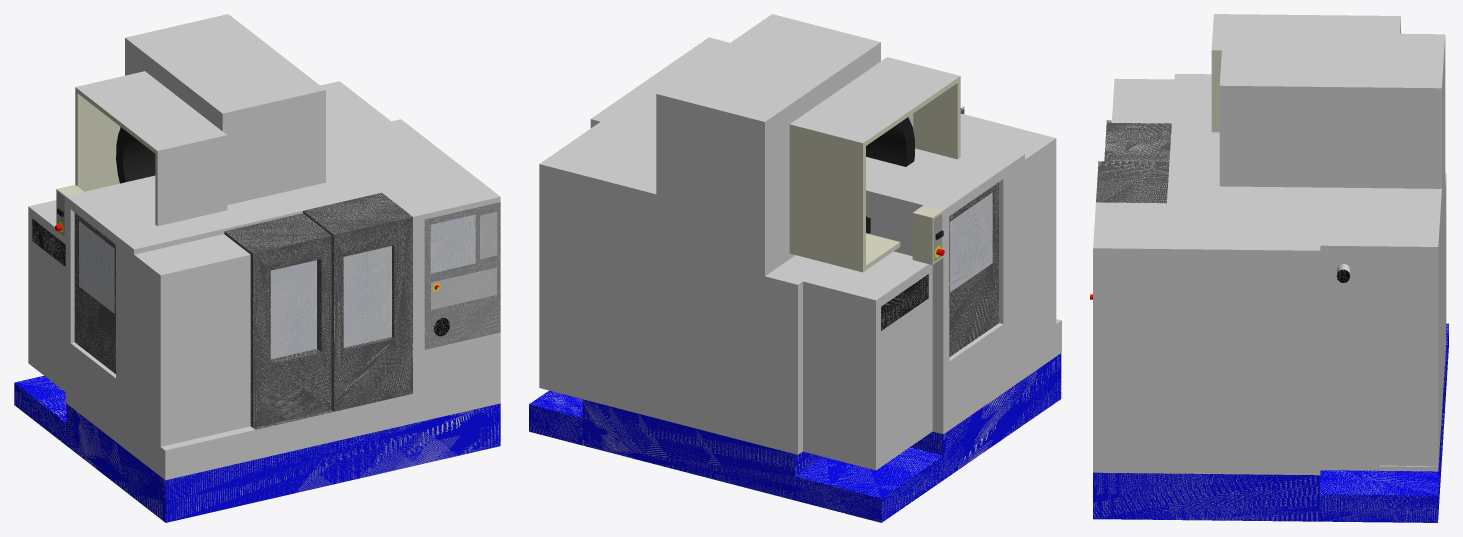
The model's file is jiagongzhongxin.dae.
3 views of the same model, side by side, from view 1: azimuth 30°, elevation 25°; view 2: azimuth 150°, elevation 25°; view 3: azimuth 270°, elevation 25° (orthographic). The views are drawn at different scales.
Visible parts, largest first — view 1: instance_0, SketchUp (×4); view 2: instance_0, SketchUp (×5); view 3: instance_0, SketchUp (×2).
Boxes of the visible parts, box(x1,y1,x2,y2) form: instance_0: box(14, 14, 500, 522); SketchUp (×4): box(75, 71, 227, 225); instance_0: box(529, 14, 1061, 522); SketchUp (×5): box(789, 57, 960, 272); instance_0: box(1093, 31, 1448, 522); SketchUp (×2): box(1211, 14, 1400, 132).
Size of the model in its own units: 101 by 85.68 by 97.93.
